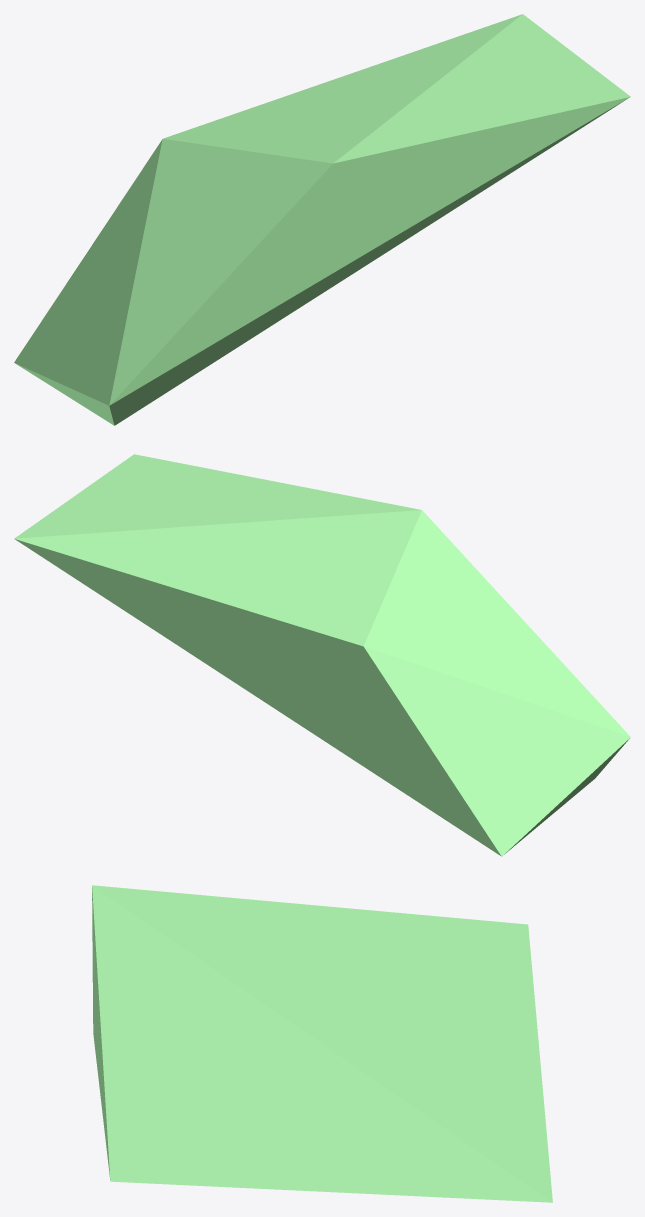
File: exported_panda_leftFinger_coll_7.dae
3 views of the same model, one above another, from view 1: azimuth 30°, elevation 25°; view 2: azimuth 150°, elevation 25°; view 3: azimuth 270°, elevation 25° (orthographic). The views are drawn at different scales.
Parts seen in each view (by area): view 1: node; view 2: node; view 3: node.
Part boxes in pixels (<box>): node: <box>14,14,630,425</box>; node: <box>14,454,630,856</box>; node: <box>92,885,552,1202</box>.
Size of the model in its own units: 0.00556 by 0.00233 by 0.00221.
